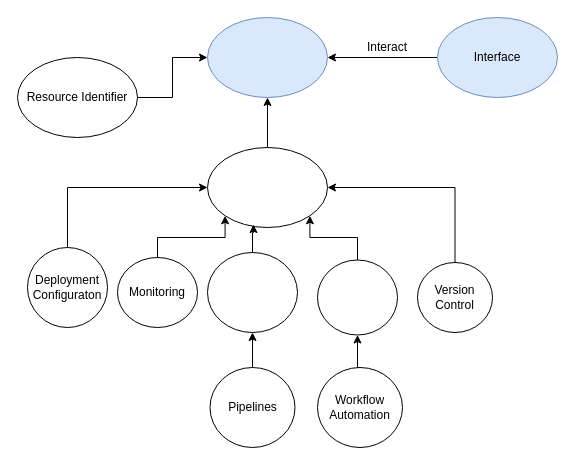
Some shapes in this 575 by 465 pixel diagram are drawn without their labels. The centre of each missing label's shape, as x and y in pixels:
"MLOps" belongs at [267,187].
"Orchestration" belongs at [252,292].
"Resource Management" belongs at [267,57].
"Workflow" belongs at [357,297].
